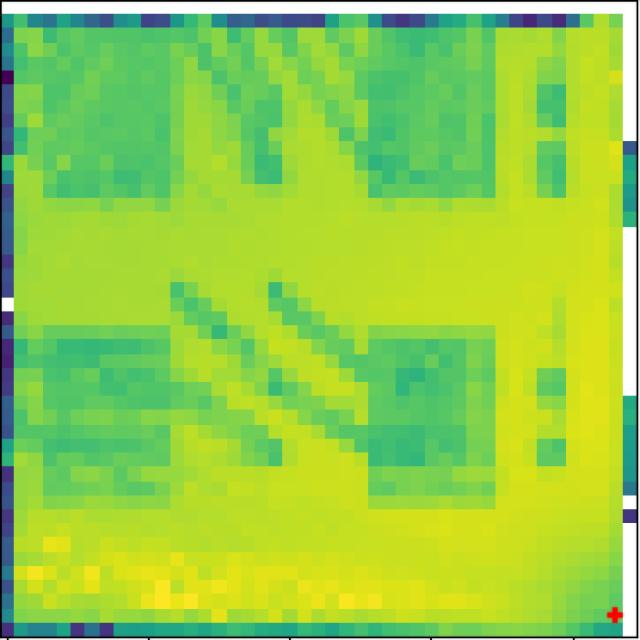Concrete: (366, 324, 496, 508)
Glass: (366, 30, 496, 201)
Metal: (43, 326, 173, 510)
Wood: (40, 31, 182, 205)
